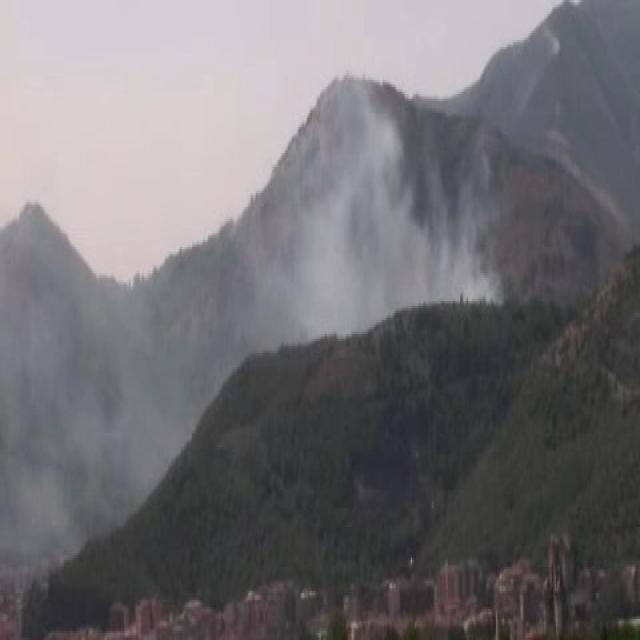Smoke: (261, 123, 487, 336)
